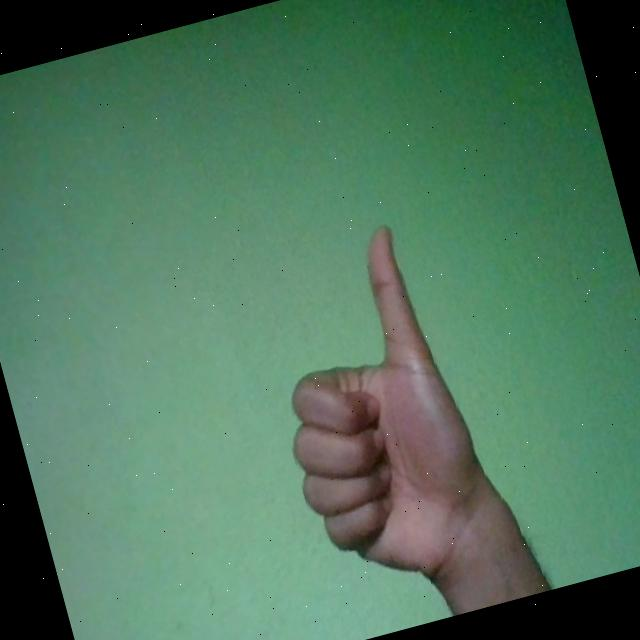Good Job: (241, 218, 507, 612)
